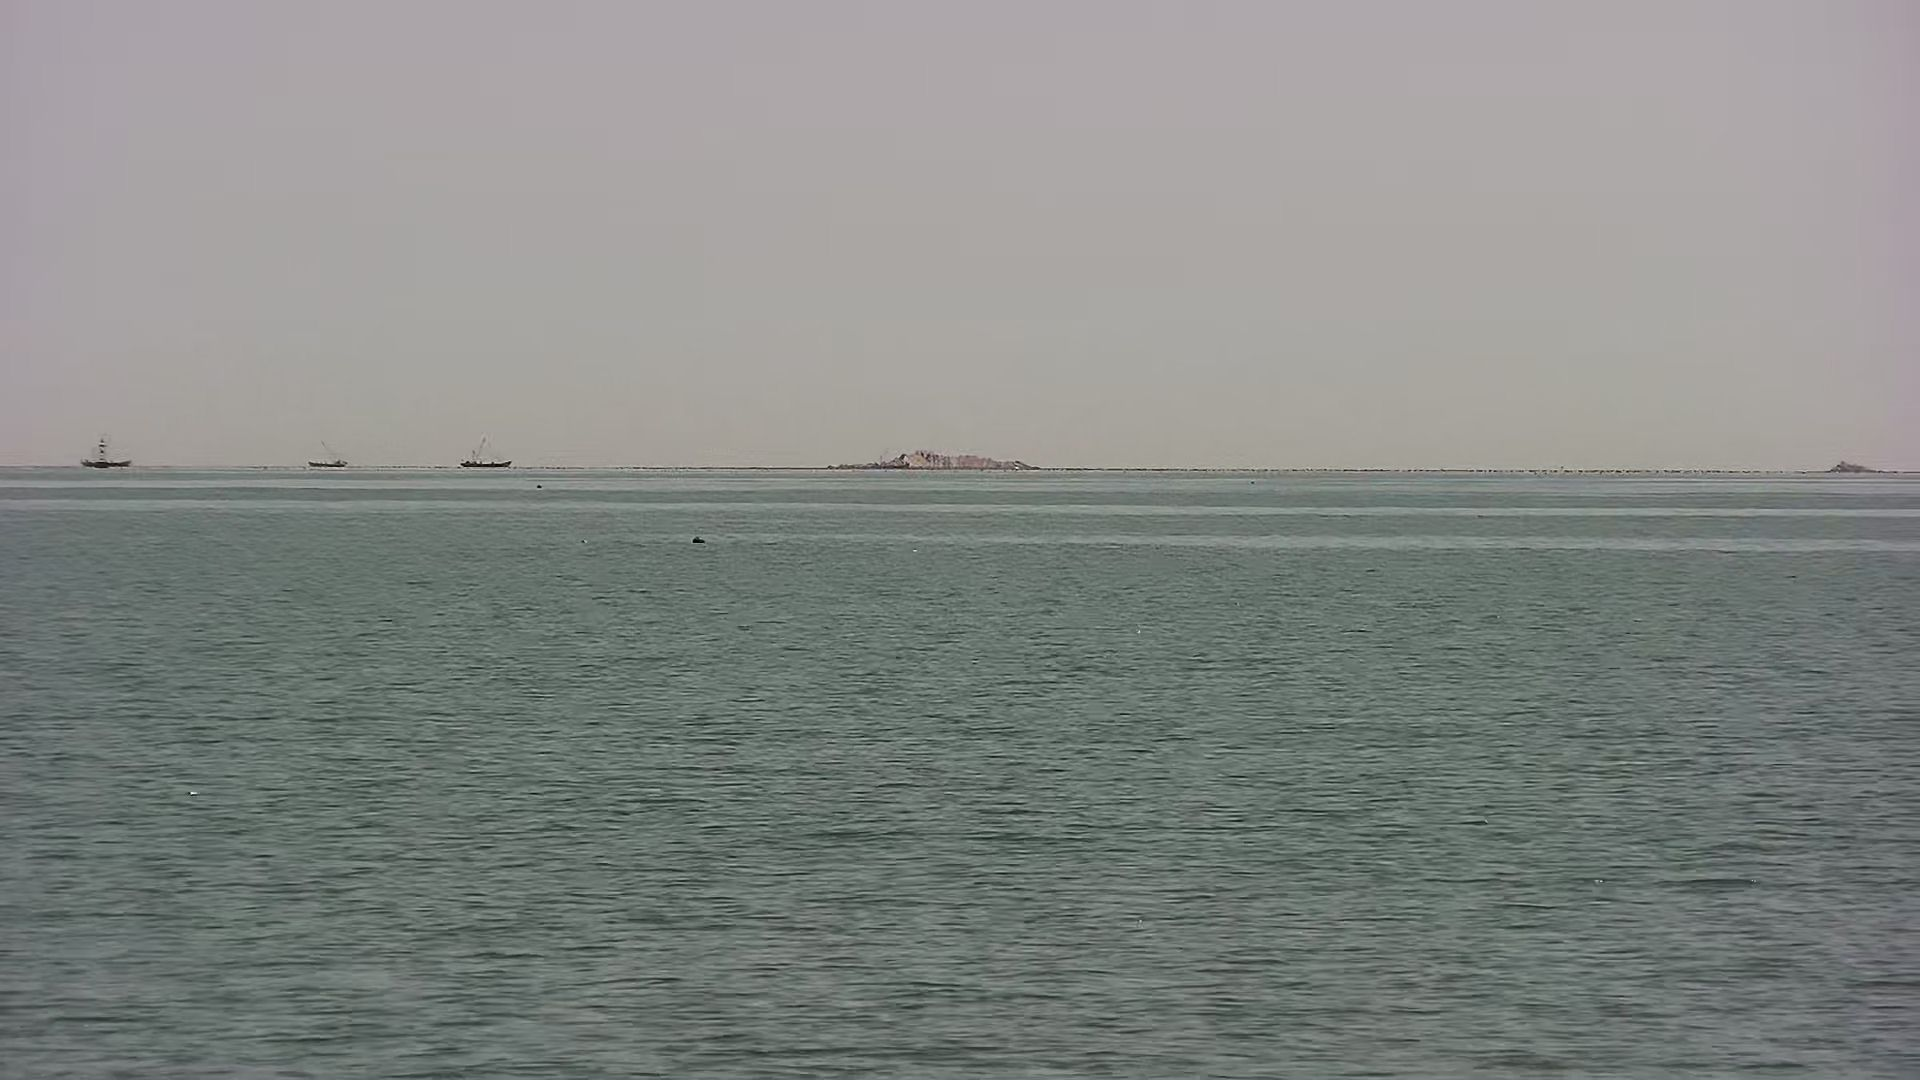rock: (828, 448, 1054, 473), (1821, 451, 1899, 483)
ship: (451, 447, 529, 473), (80, 446, 137, 473), (299, 451, 355, 468)
